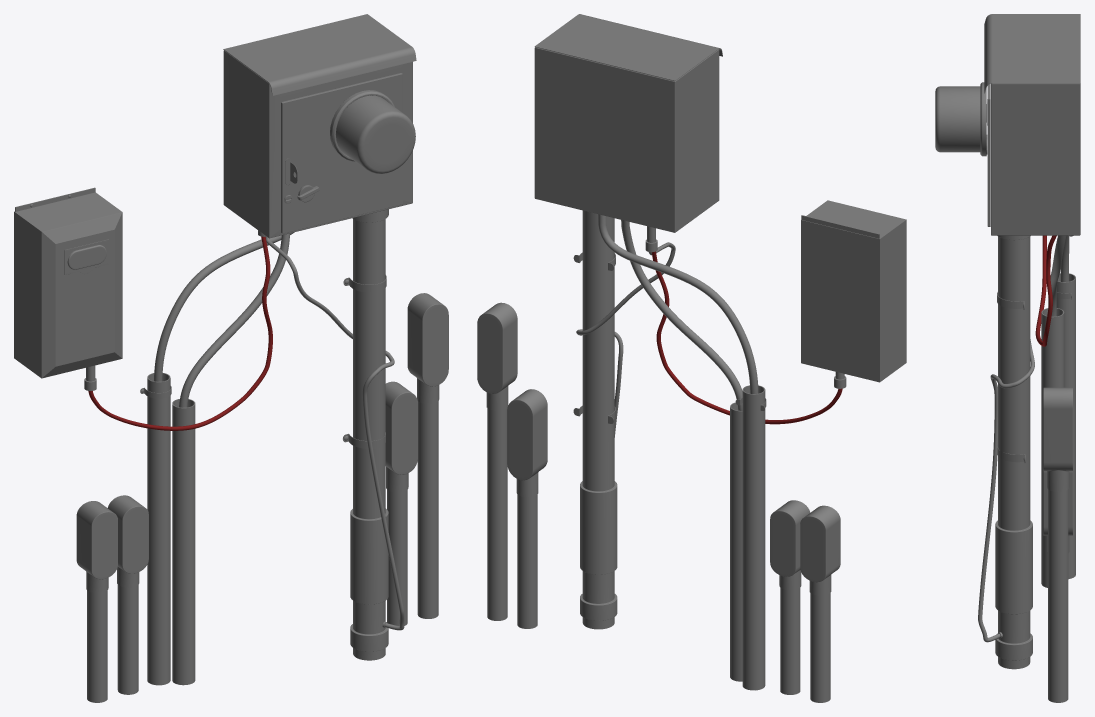
File: uploads_files_3175765_ElectricalBox.fbx
The picture shows the model from 3 angles, left to right: view 1: azimuth 30°, elevation 25°; view 2: azimuth 150°, elevation 25°; view 3: azimuth 270°, elevation 25°; orthographic projection. The views are drawn at different scales.
Visible parts, largest first — view 1: Bigl_Box, connector, small-box, Big_Pipe, Pipes, Meter Glass, Big_Wire, wire-right, wire-left, Panel, Clips, Meter_Body; view 2: Bigl_Box, connector, small-box, Big_Pipe, Pipes, Big_Wire, wire-left, wire-right; view 3: Bigl_Box, Big_Pipe, connector, Pipes, Meter Glass, wire-right, wire-left, Big_Wire, Clips, Meter_Body.
Boxes of the visible parts, x1,y1,x2,y2 form: Bigl_Box: (223,14,416,238); connector: (76,293,448,702); small-box: (14,192,122,378); Big_Pipe: (350,209,388,660); Pipes: (147,373,195,685); Meter Glass: (336,95,415,173); Big_Wire: (154,232,294,407); wire-right: (265,236,404,630); wire-left: (88,236,272,430); Panel: (64,239,108,274); Clips: (140,275,386,448); Meter_Body: (330,90,394,161); Bigl_Box: (534,14,722,232); connector: (477,302,840,702); small-box: (801,200,906,382); Big_Pipe: (580,210,617,629); Pipes: (730,385,765,690); Big_Wire: (598,214,758,410); wire-left: (651,251,842,424); wire-right: (576,242,675,437); Bigl_Box: (984,14,1080,235); Big_Pipe: (995,235,1032,669); connector: (1043,387,1072,702); Pipes: (1041,273,1075,587); Meter Glass: (935,86,980,152); wire-right: (978,339,1034,642); wire-left: (1035,235,1056,346); Big_Wire: (1048,235,1073,316); Clips: (997,292,1071,462); Meter_Body: (980,82,986,156).
Size of the model in its own units: 104 by 145 by 32.06.
